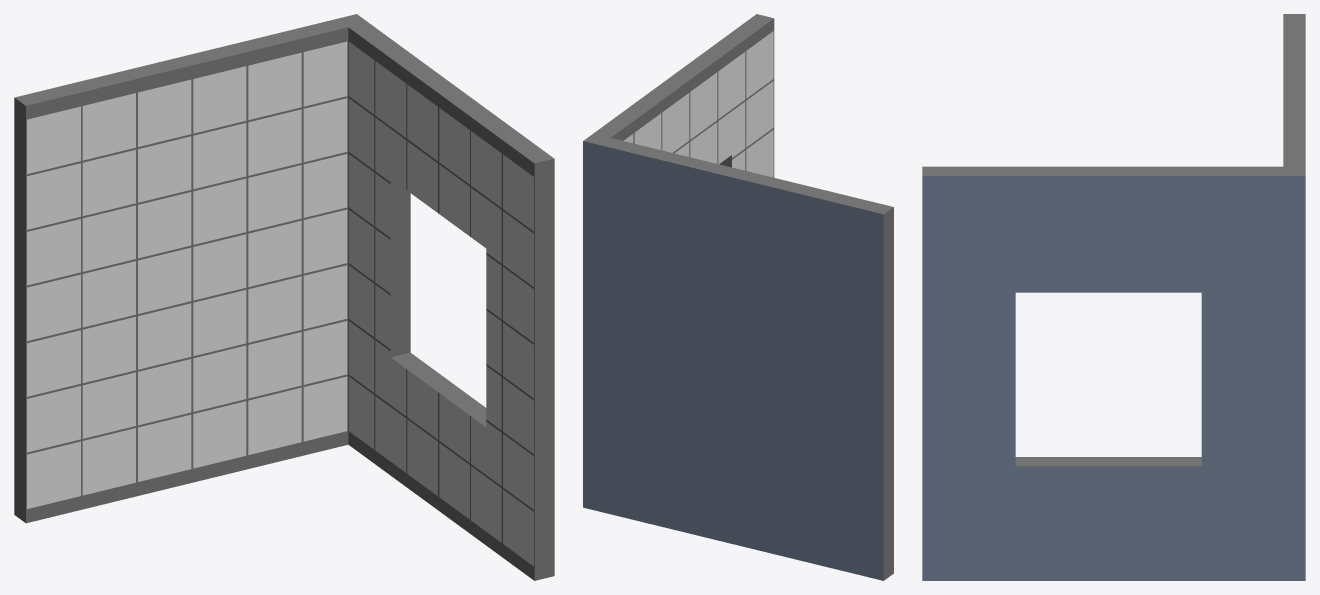
File: Wall3_C7_11.fbx
3 views of the same model, side by side, from view 1: azimuth 30°, elevation 25°; view 2: azimuth 150°, elevation 25°; view 3: azimuth 270°, elevation 25° (orthographic). The views are drawn at different scales.
Parts seen in each view (by area): view 1: Wall3_C7_11; view 2: Wall3_C7_11; view 3: Wall3_C7_11.
Boxes of the visible parts, <box> form: Wall3_C7_11: <box>14,14,554,580</box>; Wall3_C7_11: <box>583,14,893,580</box>; Wall3_C7_11: <box>922,14,1305,580</box>.
Size of the model in its own units: 258 by 300 by 258.
